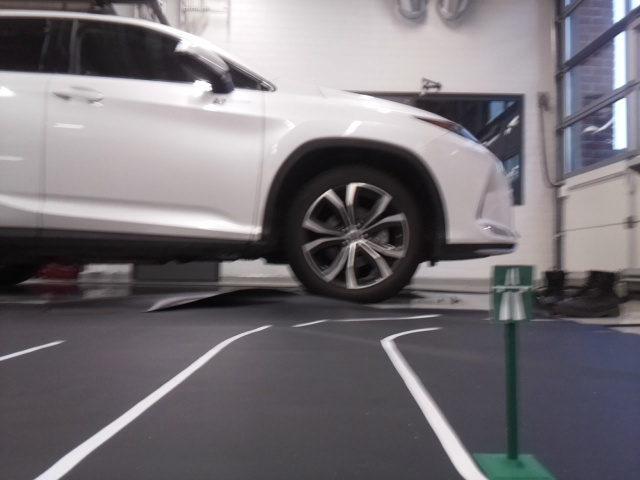HighwayEntrance: (491, 264, 534, 321)
